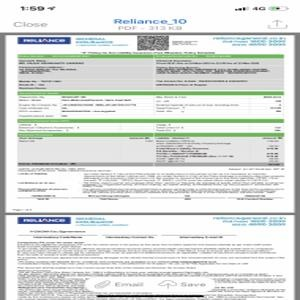image: (17, 35, 72, 45), (16, 216, 74, 224)
table: (18, 53, 284, 90), (16, 131, 283, 166), (17, 91, 286, 120), (18, 119, 283, 137)
text: (14, 239, 287, 296), (13, 168, 287, 198), (205, 216, 288, 230), (212, 36, 287, 48)
